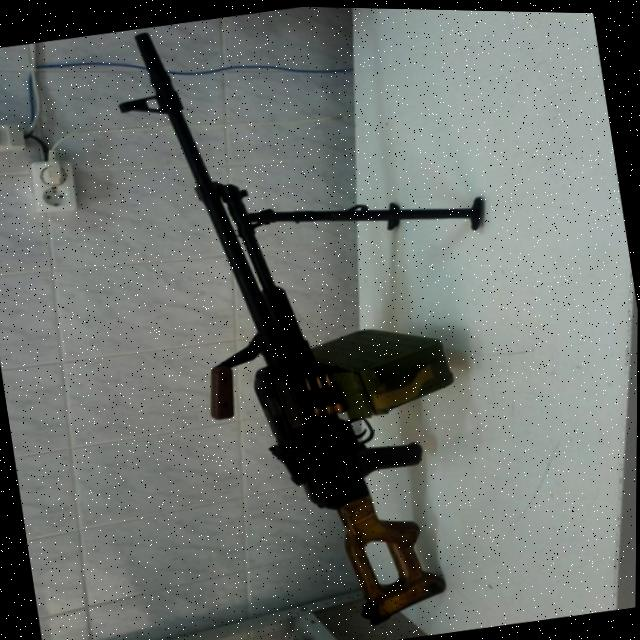firearm: (103, 2, 453, 640)
